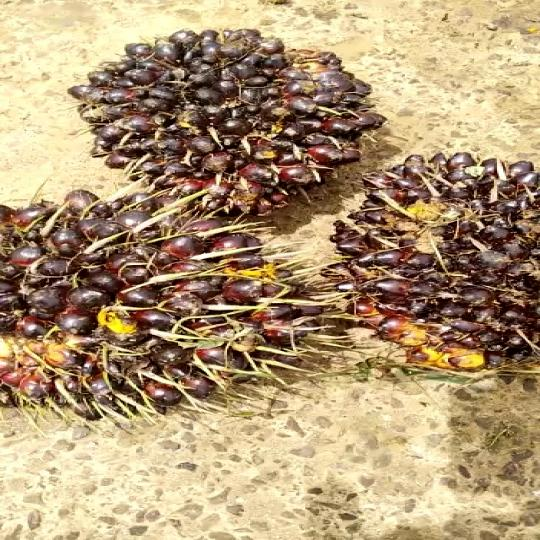kurang masak: (0, 188, 344, 418), (313, 133, 540, 402), (81, 24, 354, 220)
